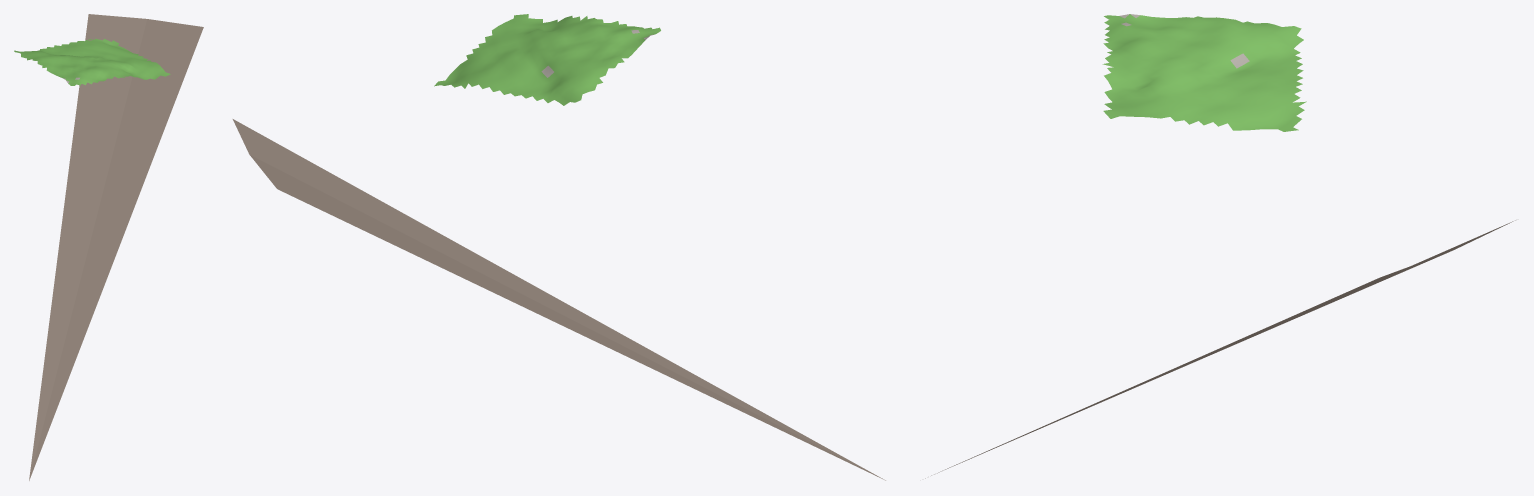
Rendered from flagship_terrain_121.glb.
3 renders of one model, left to right at view 1: azimuth 30°, elevation 25°; view 2: azimuth 150°, elevation 25°; view 3: azimuth 270°, elevation 25°, orthographic. The views are drawn at different scales.
Parts seen in each view (by area): view 1: Terrain_121; view 2: Terrain_121; view 3: Terrain_121.
Part boxes in pixels (x1=…): Terrain_121: x1=14, y1=14, x2=203, y2=480; Terrain_121: x1=232, y1=14, x2=885, y2=480; Terrain_121: x1=925, y1=14, x2=1515, y2=478.
Bounding box in the file's own units: 95.2 × 95.75 × 95.2.
